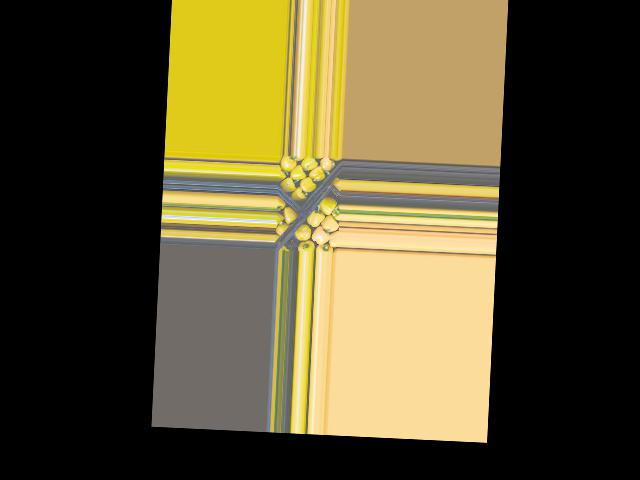bell_pepper: (277, 155, 294, 175)
